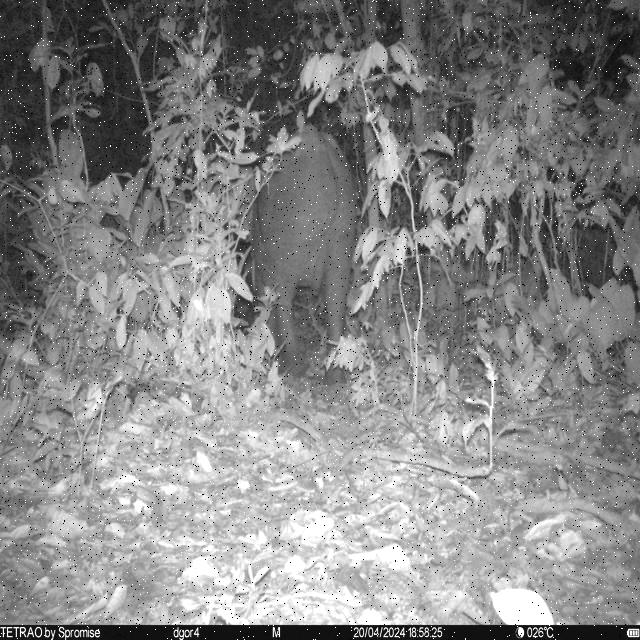elephant: (235, 125, 360, 388)
